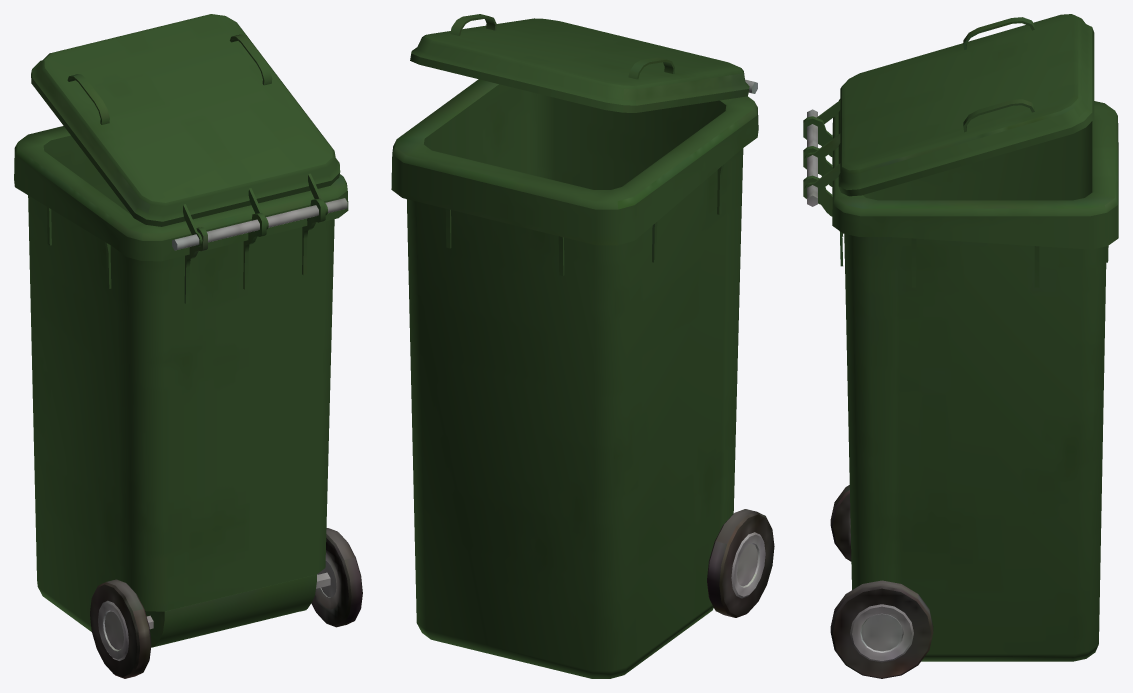
Rendered from PlasticTrashBin.glb.
The picture shows the model from 3 angles, left to right: view 1: azimuth 30°, elevation 25°; view 2: azimuth 150°, elevation 25°; view 3: azimuth 270°, elevation 25°; orthographic projection. The views are drawn at different scales.
Visible parts, largest first — view 1: WasteBin; view 2: WasteBin; view 3: WasteBin.
Part boxes in pixels (box(x1,y1,x2,y2)): WasteBin: box(14, 14, 362, 678); WasteBin: box(391, 14, 774, 678); WasteBin: box(803, 14, 1118, 678).
Size of the model in its own units: 0.588 by 1.34 by 0.6796.
1 material, 1 textured.
